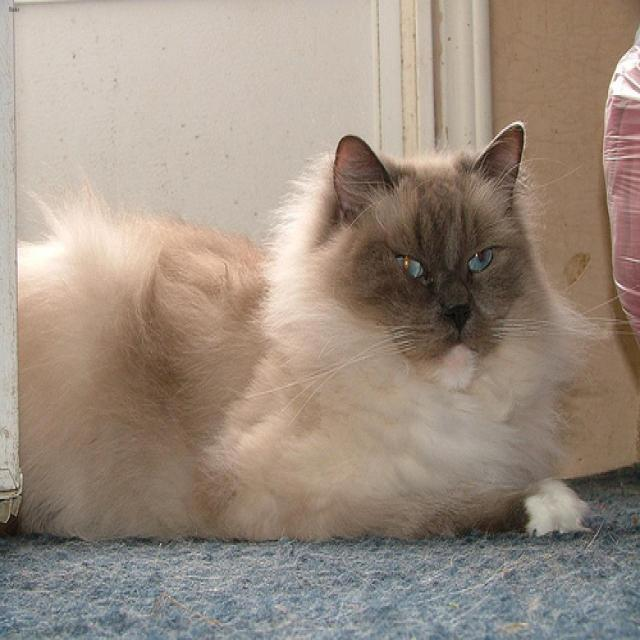Ragdoll: (308, 121, 550, 399)
